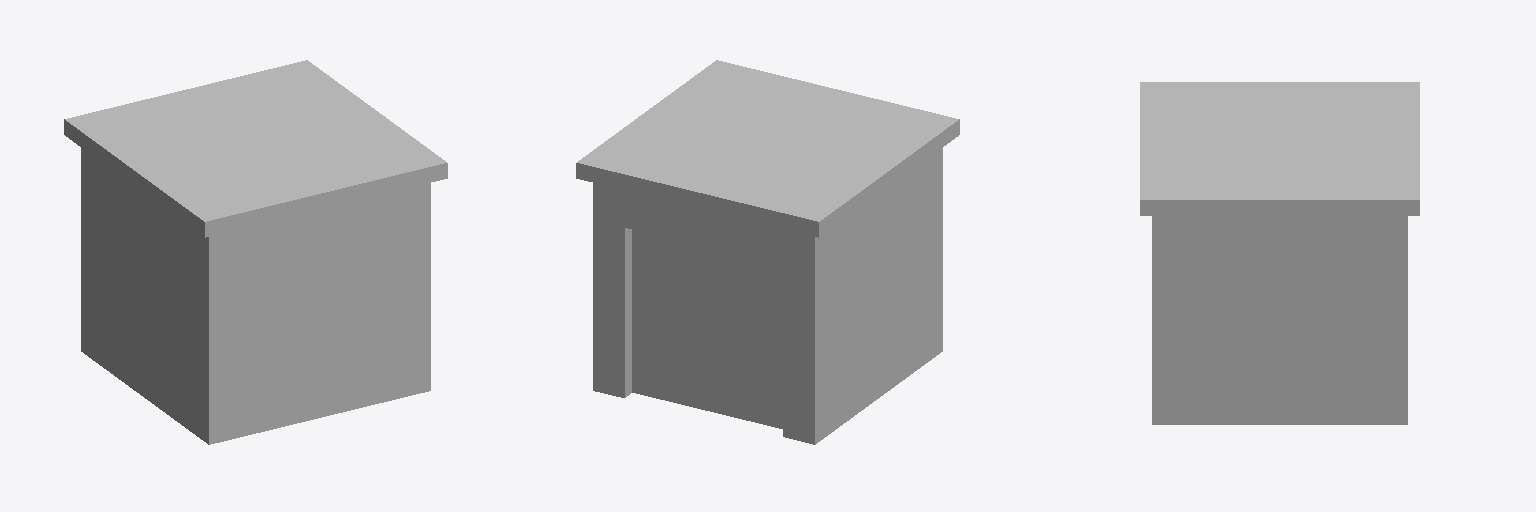
Rendered from night_stand.obj.
3 renders of one model, left to right at view 1: azimuth 30°, elevation 25°; view 2: azimuth 150°, elevation 25°; view 3: azimuth 270°, elevation 25°, orthographic.
Parts seen in each view (by area): view 1: Cube; view 2: Cube; view 3: Cube.
Boxes of the visible parts, <box> form: Cube: <box>64,60,447,444</box>; Cube: <box>576,60,959,444</box>; Cube: <box>1140,82,1419,424</box>.
Size of the model in its own units: 2.19 by 1.98 by 2.19.